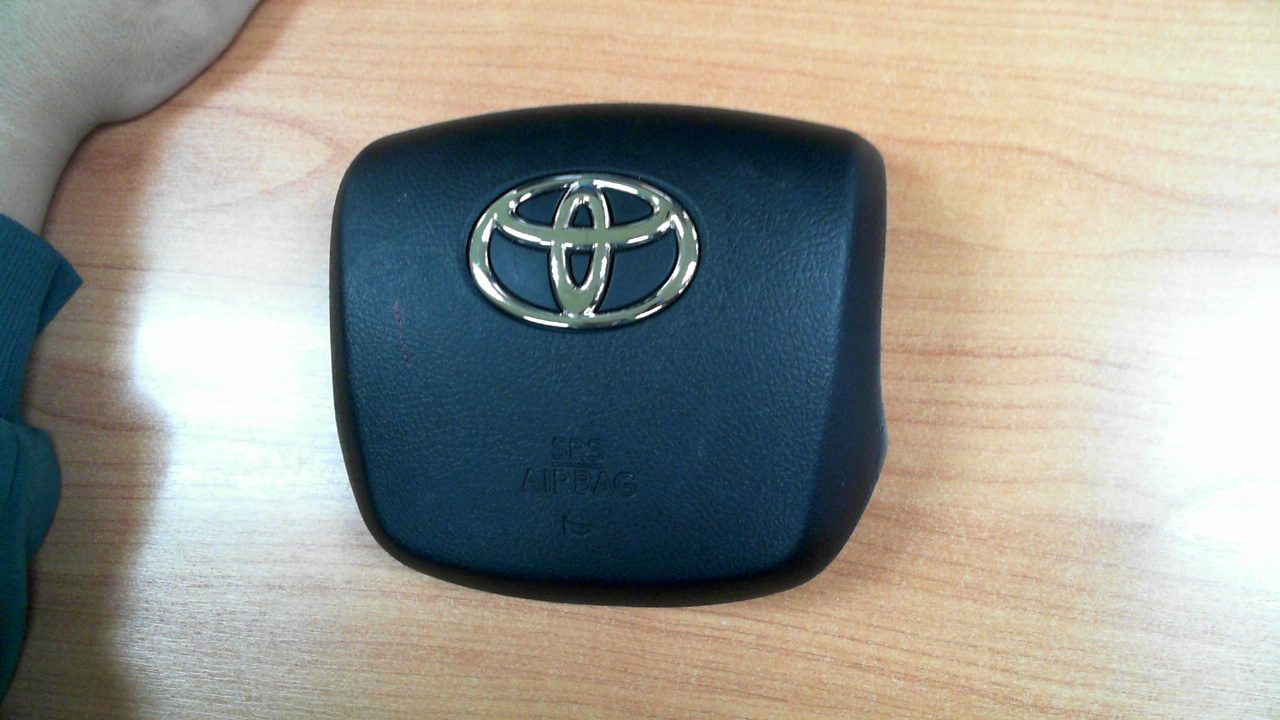Airbag: (327, 101, 888, 611)
Toyota: (468, 172, 700, 329)
